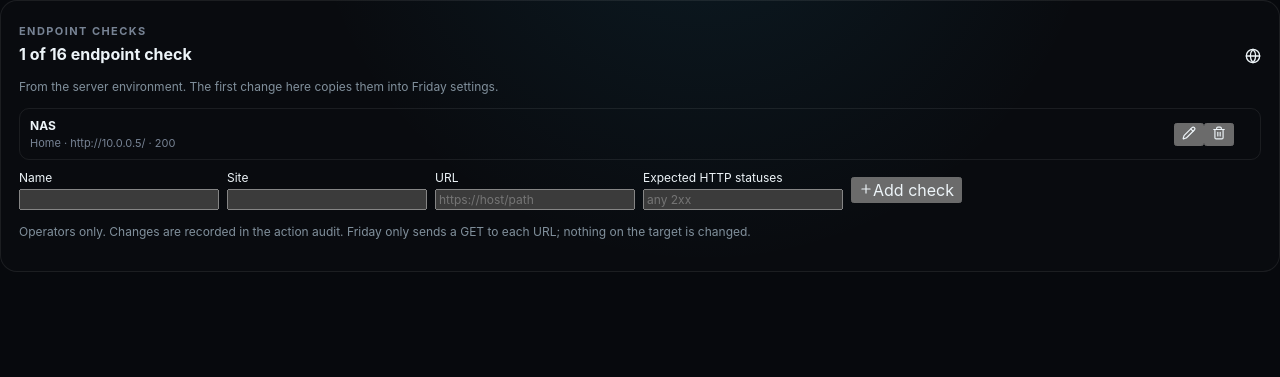
Test: EndpointChecksPanel › creates a check with a JSON POST
Type "Router" into the field labelled "Name". click: point(119, 200)
box: [19,189,219,210]
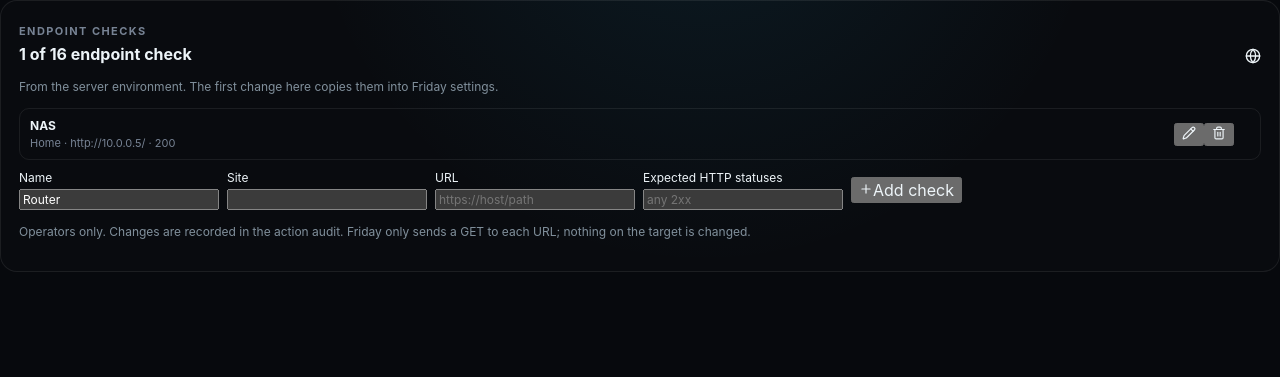
Type "Home" into the field labelled "Site". click: point(327, 200)
box: [227,189,427,210]
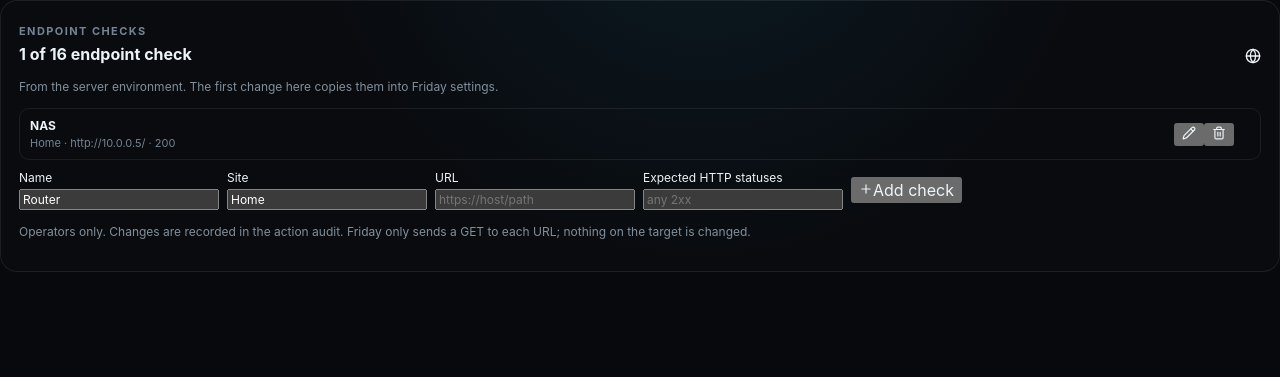
Type "http://10.0.0.1/" into the field labelled "URL". click: point(535, 200)
box: [435,189,635,210]
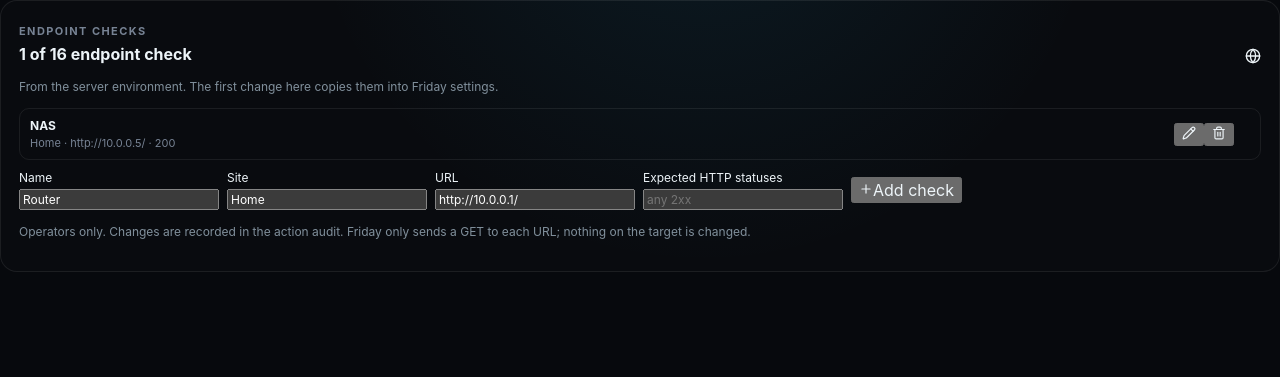
Type "200, 401" into the field labelled "Expected HTTP statuses". click: point(743, 200)
box: [643,189,843,210]
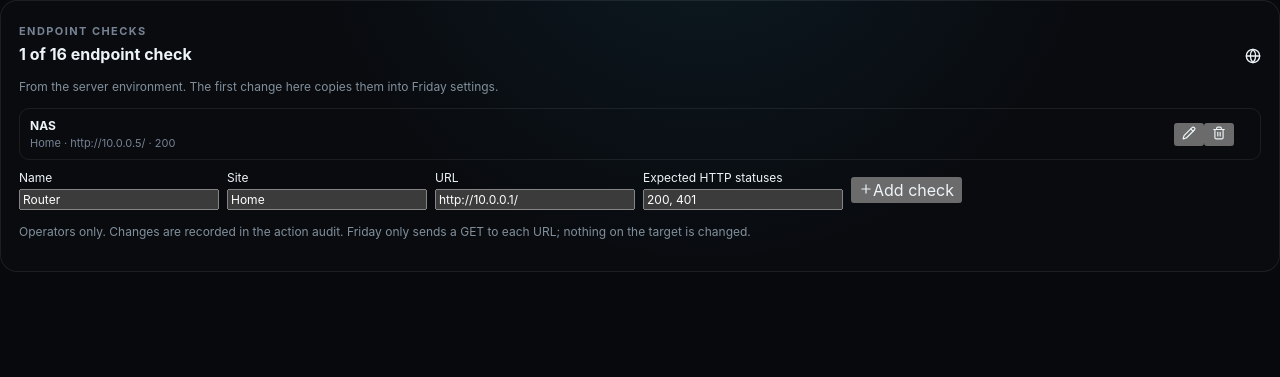
Click the button "Add check". click: point(906, 190)
box: [851,177,962,203]
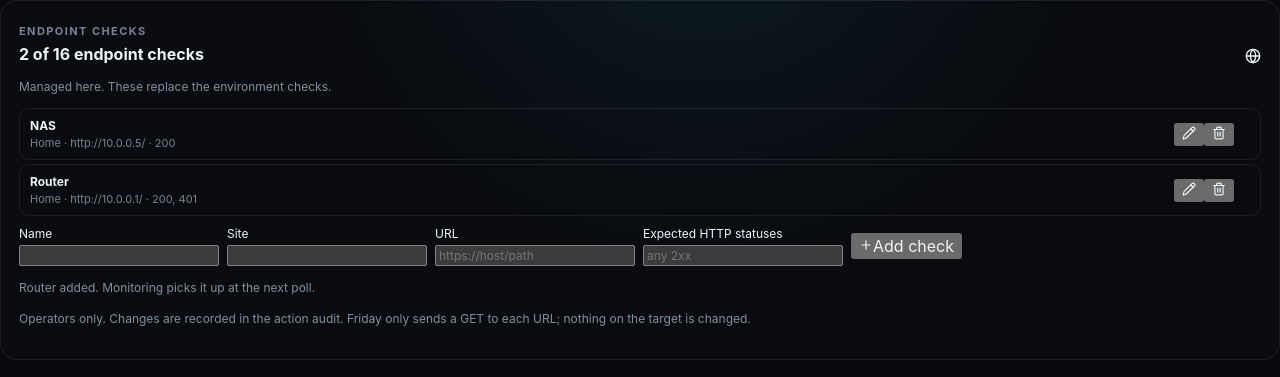
Check: the text "Router added. Monitoring picks it up at the next poll." is shown, box [19,280,315,295]
Check: the text "Router" is shown, box [30,174,69,189]
